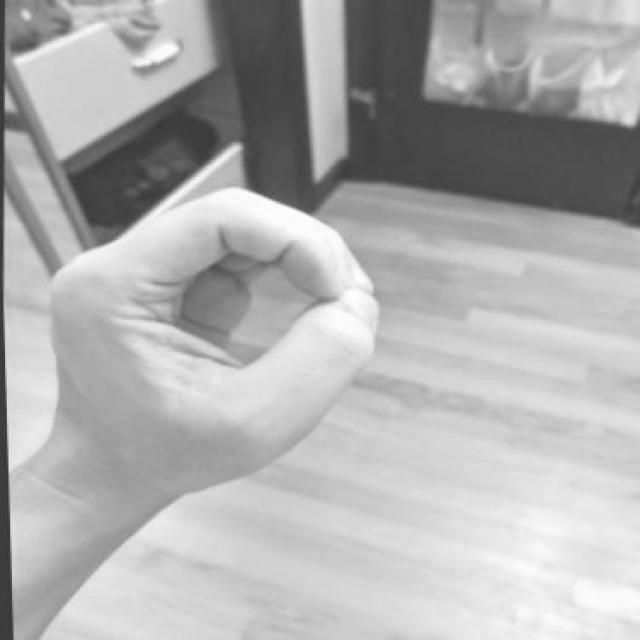O: (26, 172, 396, 517)
